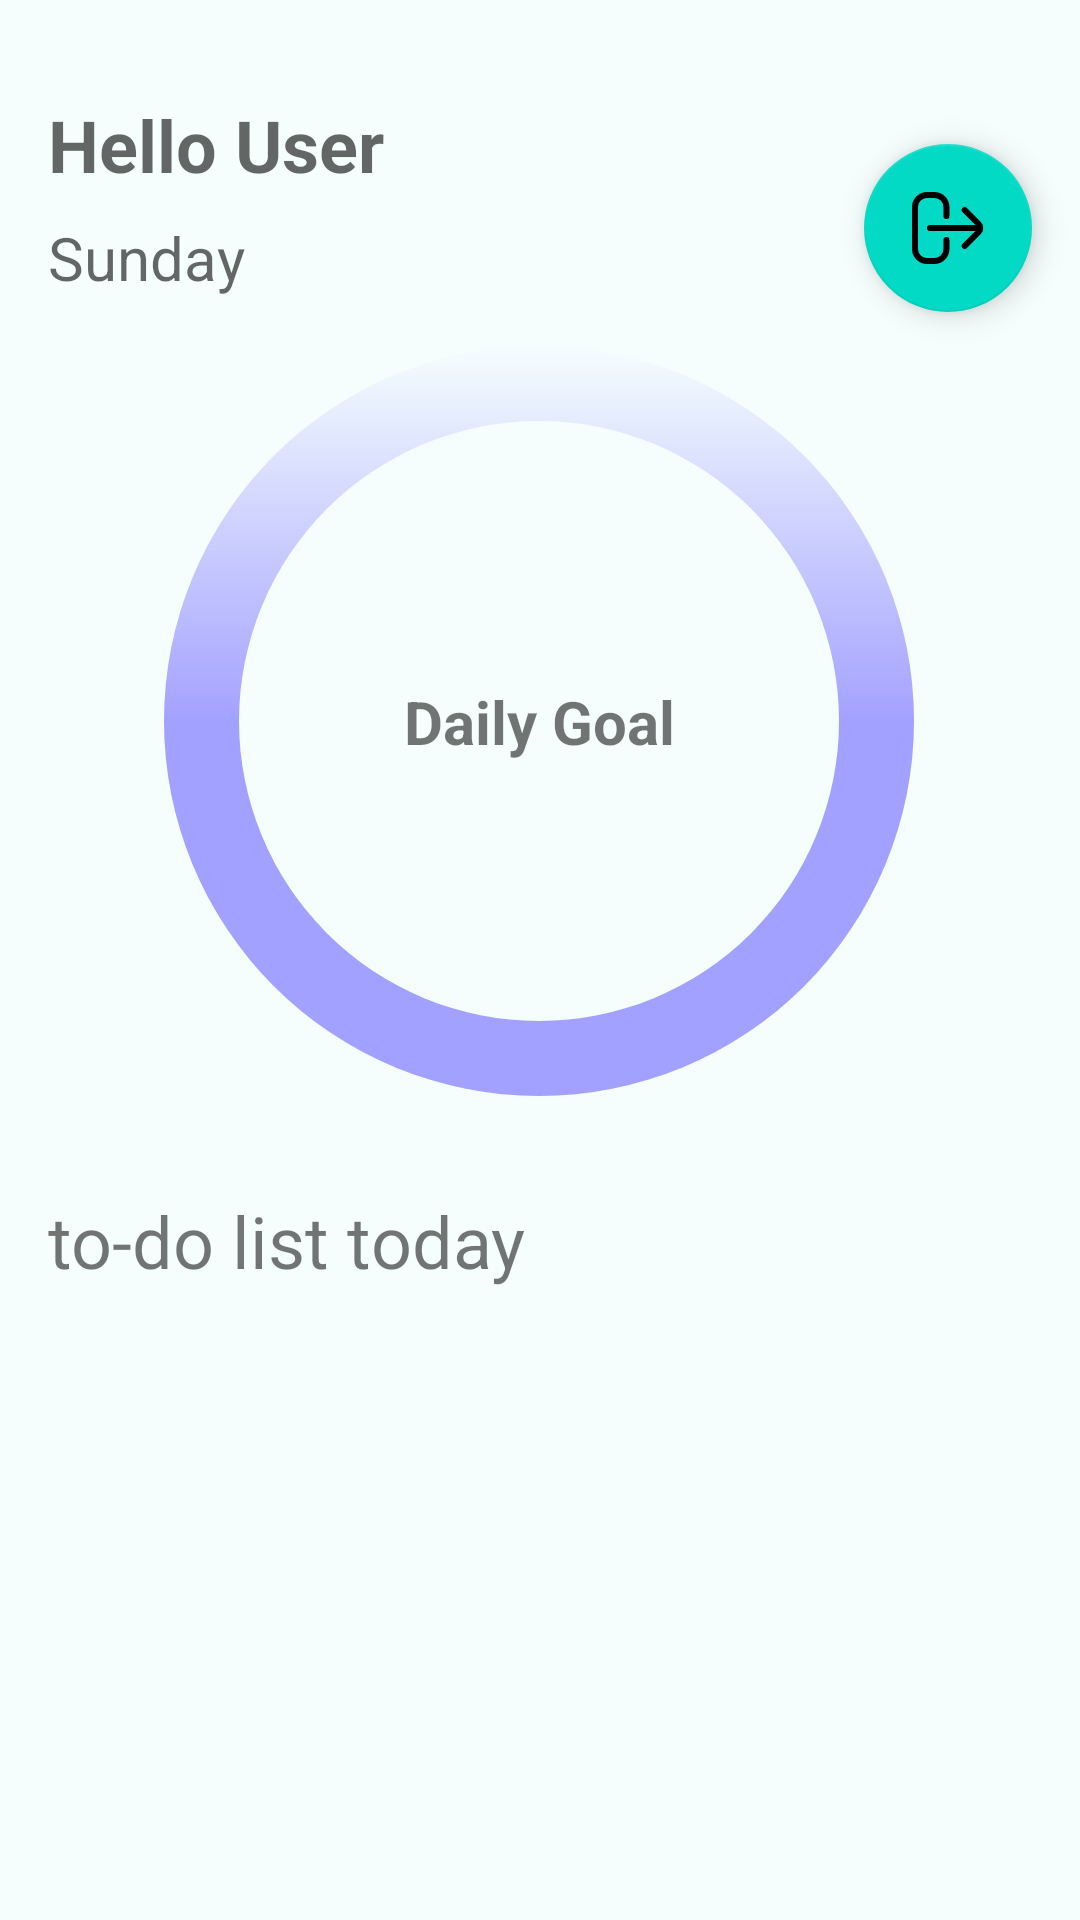

Screen size 1080×1920. Icon name, then its center in pixels as point (x, y):
sign out: point (948, 228)
